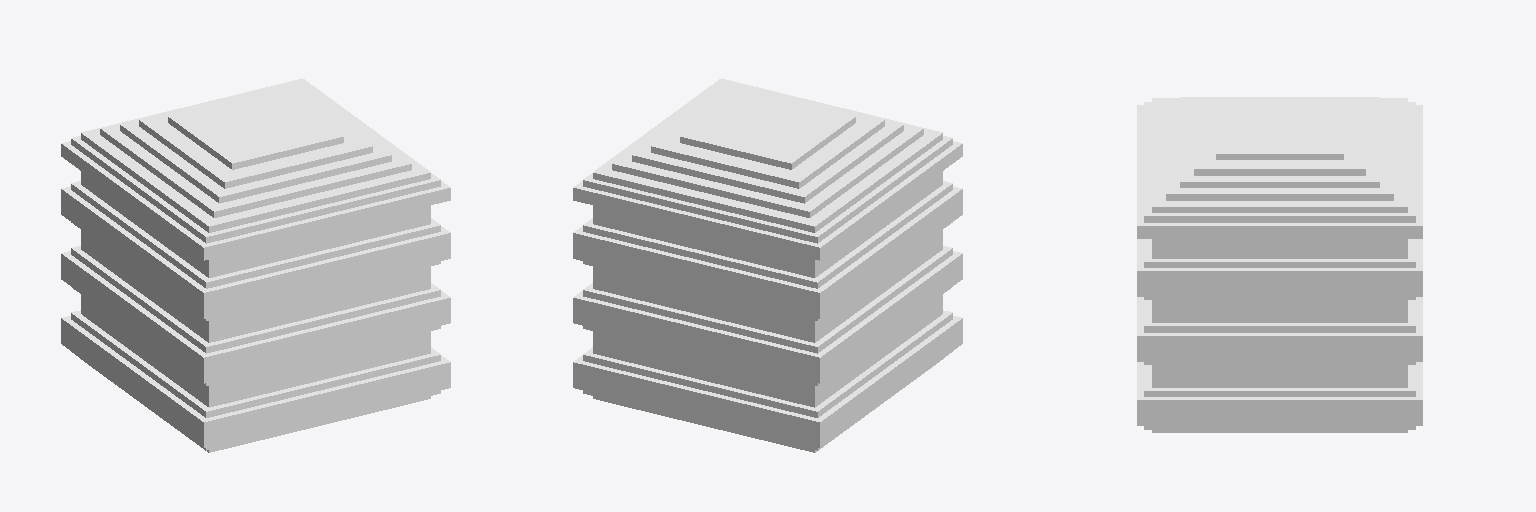
File: hive.obj
3 views of the same model, side by side, from view 1: azimuth 30°, elevation 25°; view 2: azimuth 150°, elevation 25°; view 3: azimuth 270°, elevation 25° (orthographic).
Visible parts, largest first — view 1: object 1; view 2: object 1; view 3: object 1.
Part boxes in pixels (left/top/right/bottom): object 1: left=61, top=78, right=450, bottom=452; object 1: left=573, top=78, right=962, bottom=452; object 1: left=1137, top=97, right=1422, bottom=432.
Size of the model in its own units: 4 by 4 by 4.